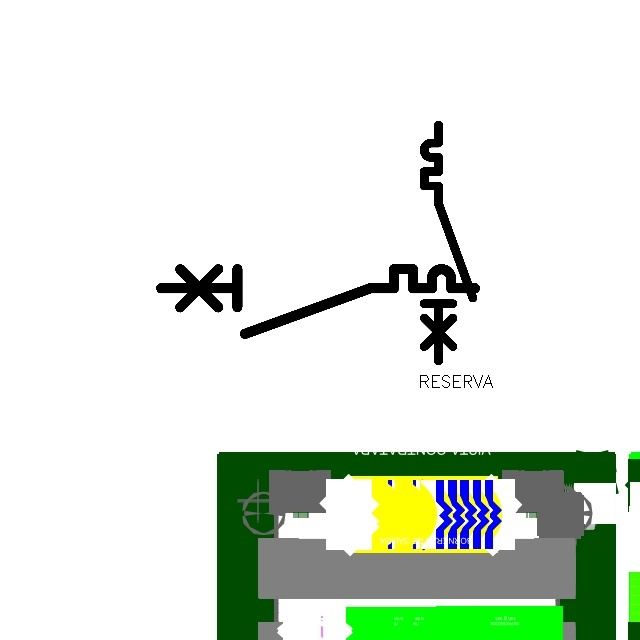interruptor_termomagnetico: (153, 261, 483, 341), (418, 119, 478, 367)
